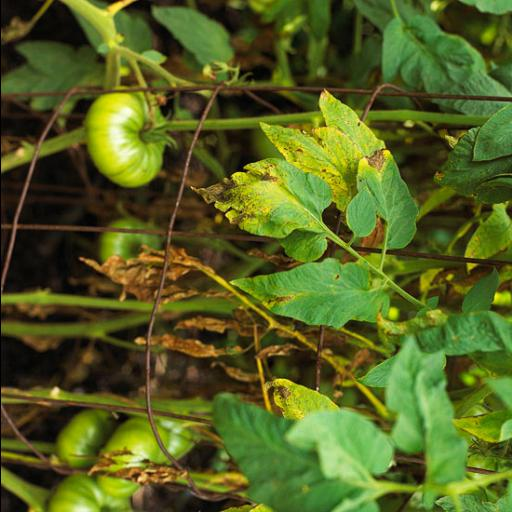disease_tomato: (226, 258, 390, 330), (194, 156, 326, 238), (253, 122, 363, 212), (355, 147, 420, 251), (316, 84, 388, 157), (260, 377, 340, 420)
